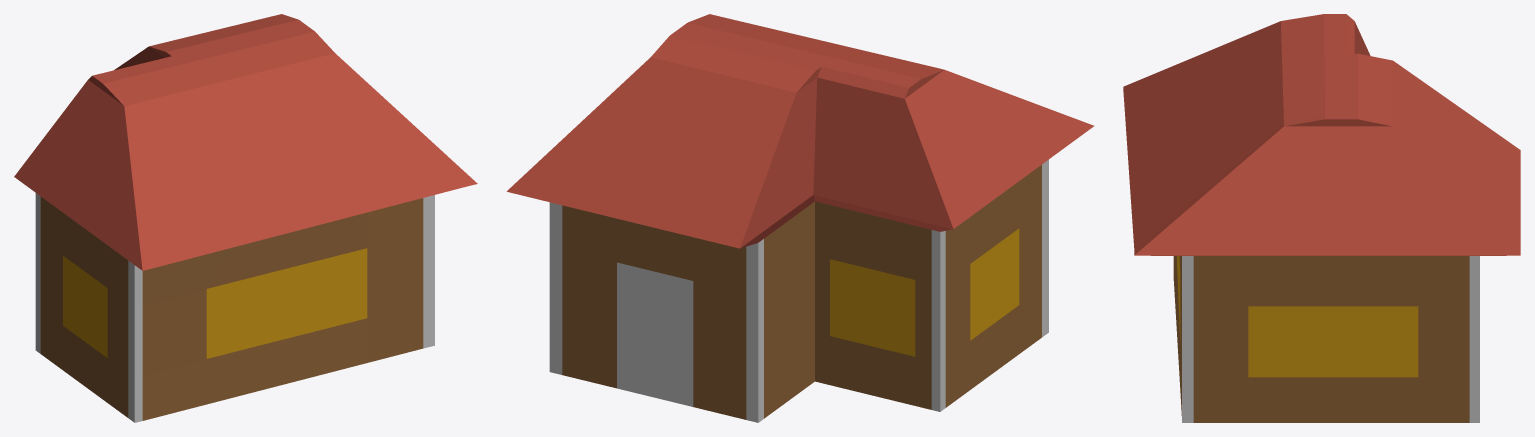
Rendered from Haus2.fbx.
3 renders of one model, left to right at view 1: azimuth 30°, elevation 25°; view 2: azimuth 150°, elevation 25°; view 3: azimuth 270°, elevation 25°, orthographic. The views are drawn at different scales.
Parts seen in each view (by area): view 1: Cube; view 2: Cube; view 3: Cube.
Part boxes in pixels (x1=…): Cube: x1=14, y1=14, x2=477, y2=422; Cube: x1=507, y1=14, x2=1093, y2=422; Cube: x1=1123, y1=14, x2=1520, y2=422.
Size of the model in its own units: 1459 by 1124 by 1450.
